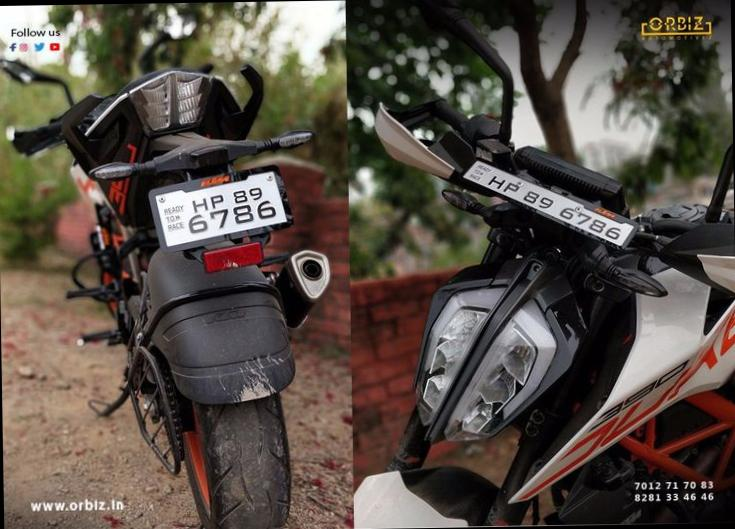plate: (146, 183, 286, 237)
